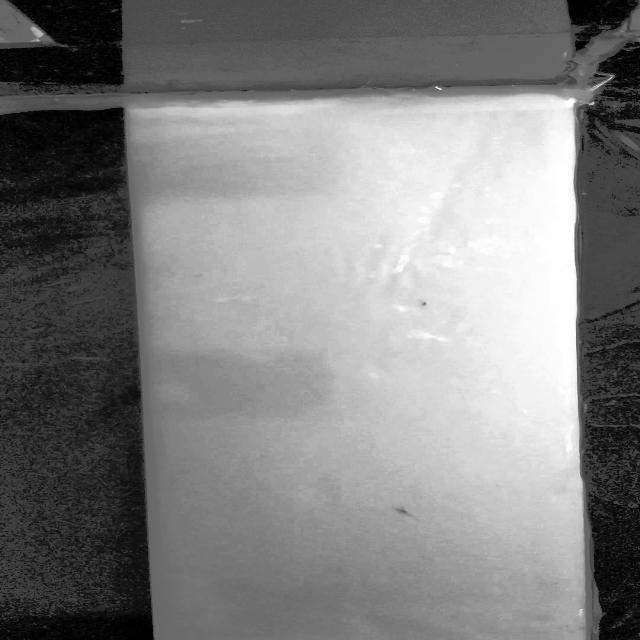shrimp: (394, 506, 432, 524), (415, 298, 434, 310)
